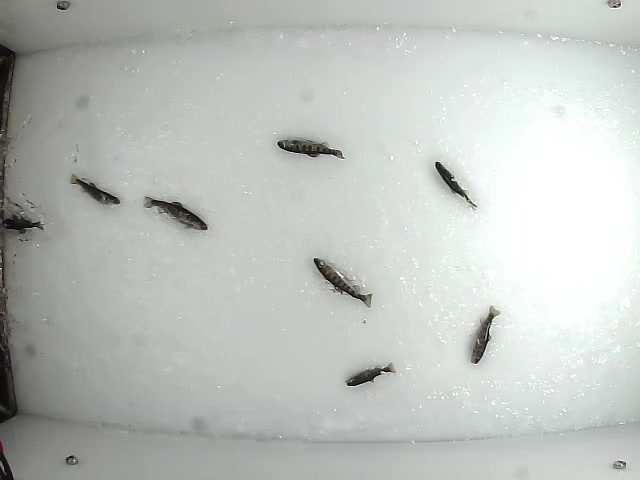fish: (311, 254, 375, 308), (141, 194, 210, 233), (432, 160, 479, 213), (469, 304, 500, 366), (275, 137, 348, 163), (68, 172, 123, 206), (342, 361, 398, 386), (1, 213, 48, 234)
